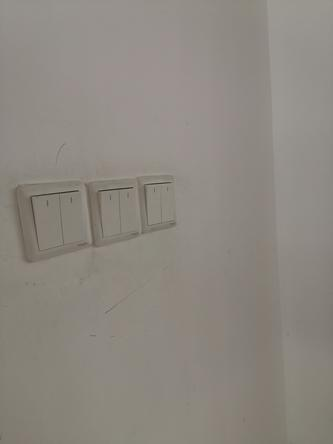switch: (26, 190, 67, 250), (92, 185, 123, 242), (58, 188, 87, 246), (113, 185, 140, 233), (143, 180, 165, 228), (159, 178, 180, 225)
